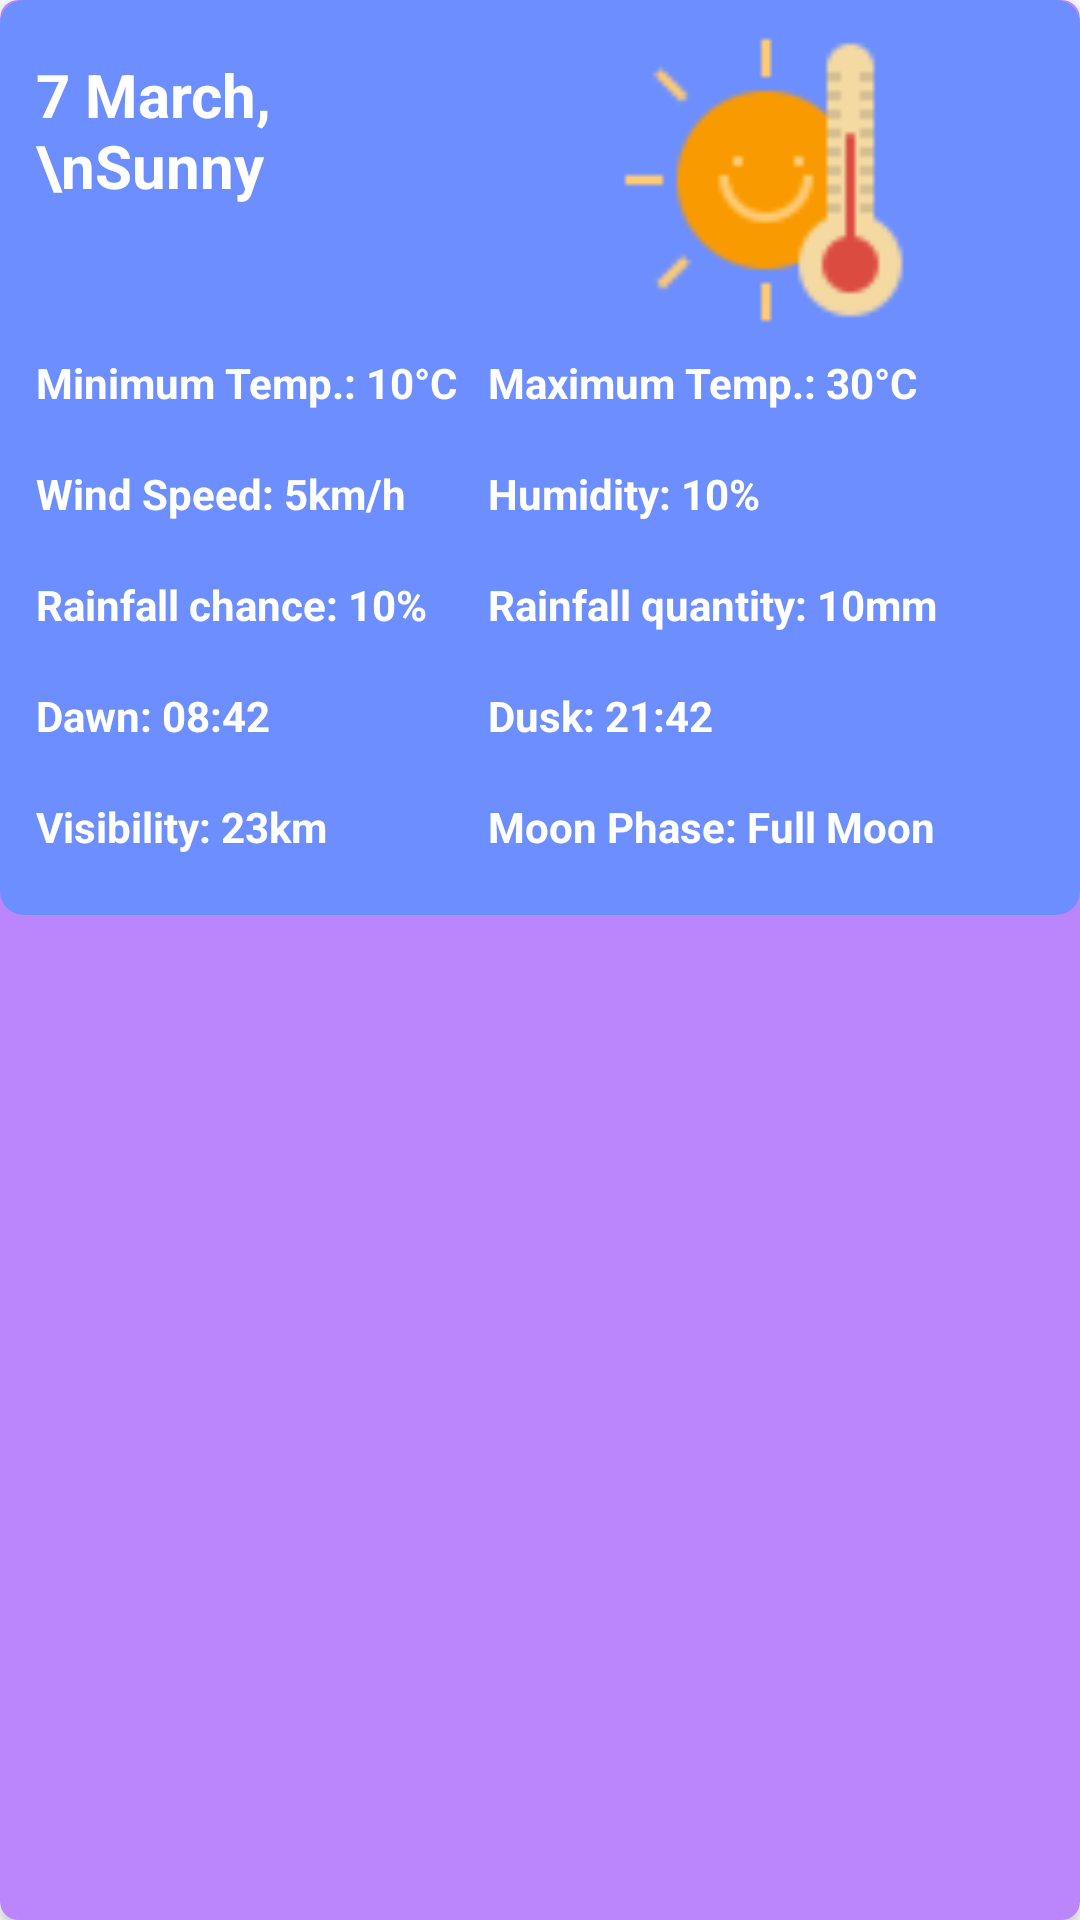

Screen size 1080*1920. Icon name, then its center in pixels as [x,y]:
sunny weather: [763,180]
